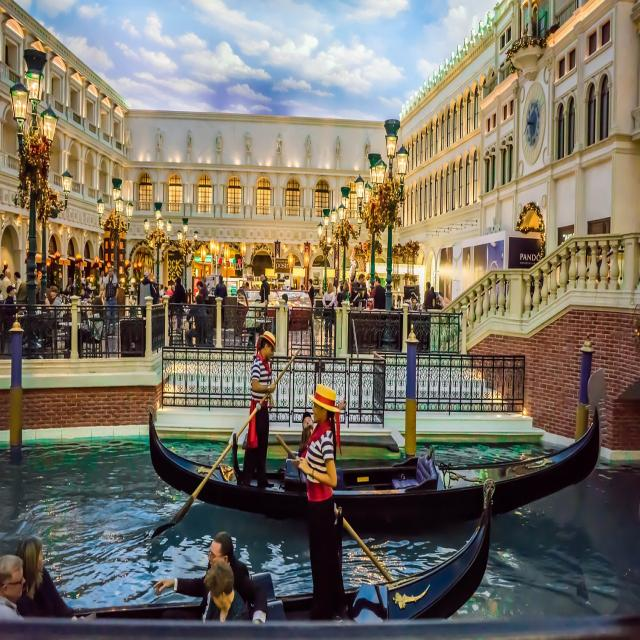boat: (138, 370, 610, 534), (0, 497, 502, 634)
